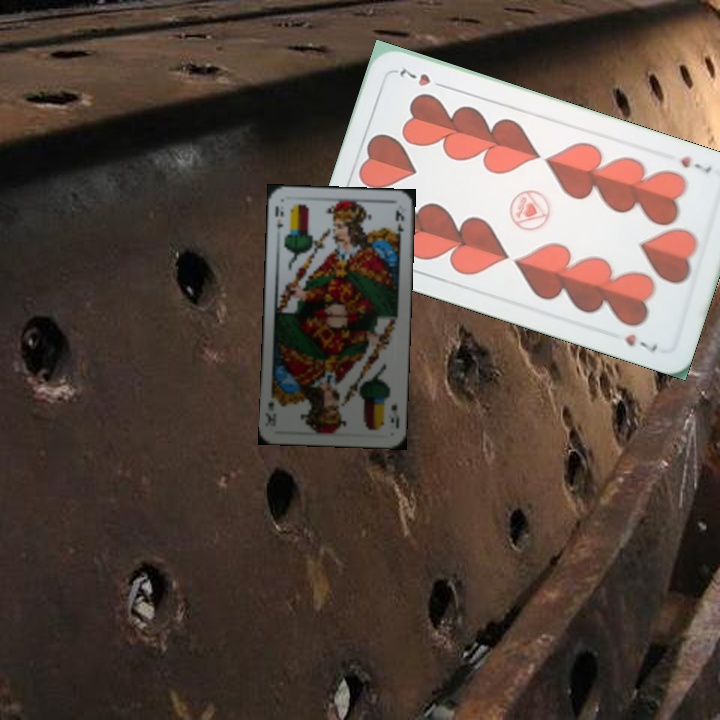EK: (271, 202, 287, 240), (386, 400, 402, 430)
H7: (676, 152, 715, 177)
